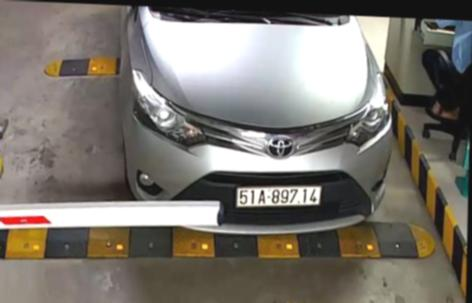License_Plate: (231, 179, 324, 209)
